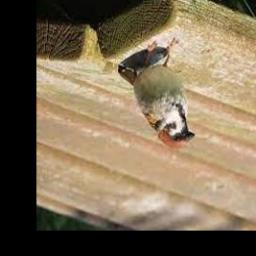Sparrow: (118, 39, 195, 148)
